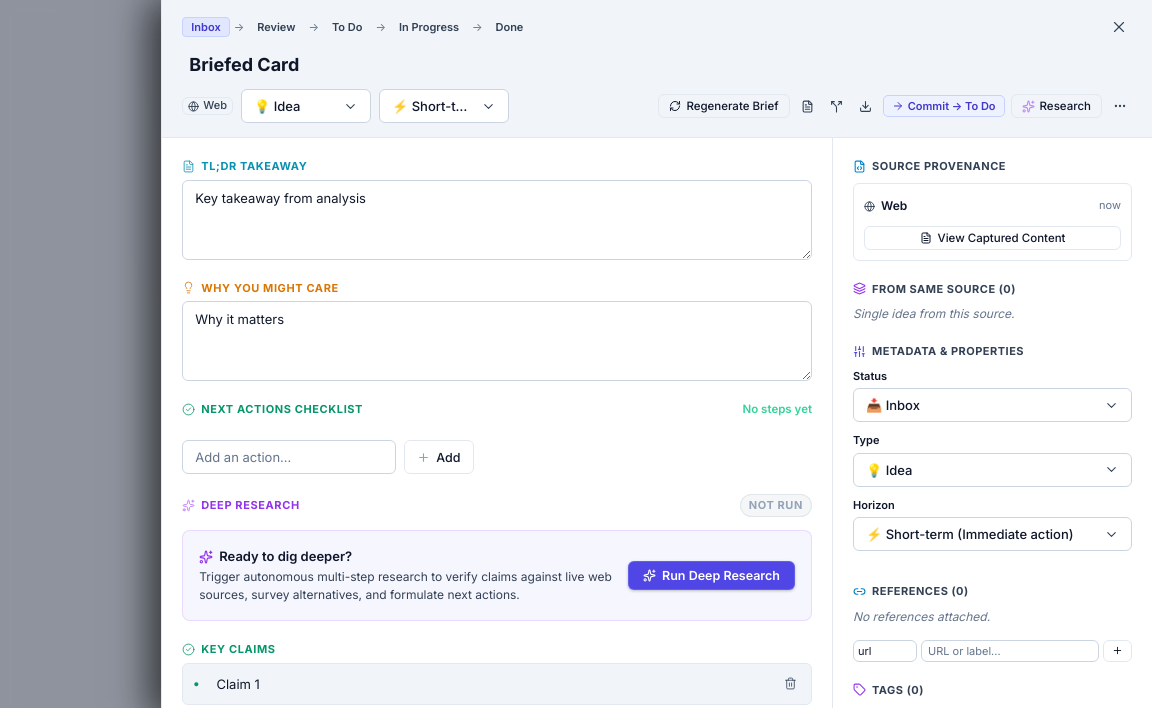
Test: CardModal Subject Card & Synthesize Brief › debounces title autosave by 650ms and shows saved indicator
The image size is (1152, 708).
Replace the text in the 1st field showing "Briefed Card" with "Updated Title After Edit" at (657, 64), box top-left (182, 50), bottom-right (1132, 79)
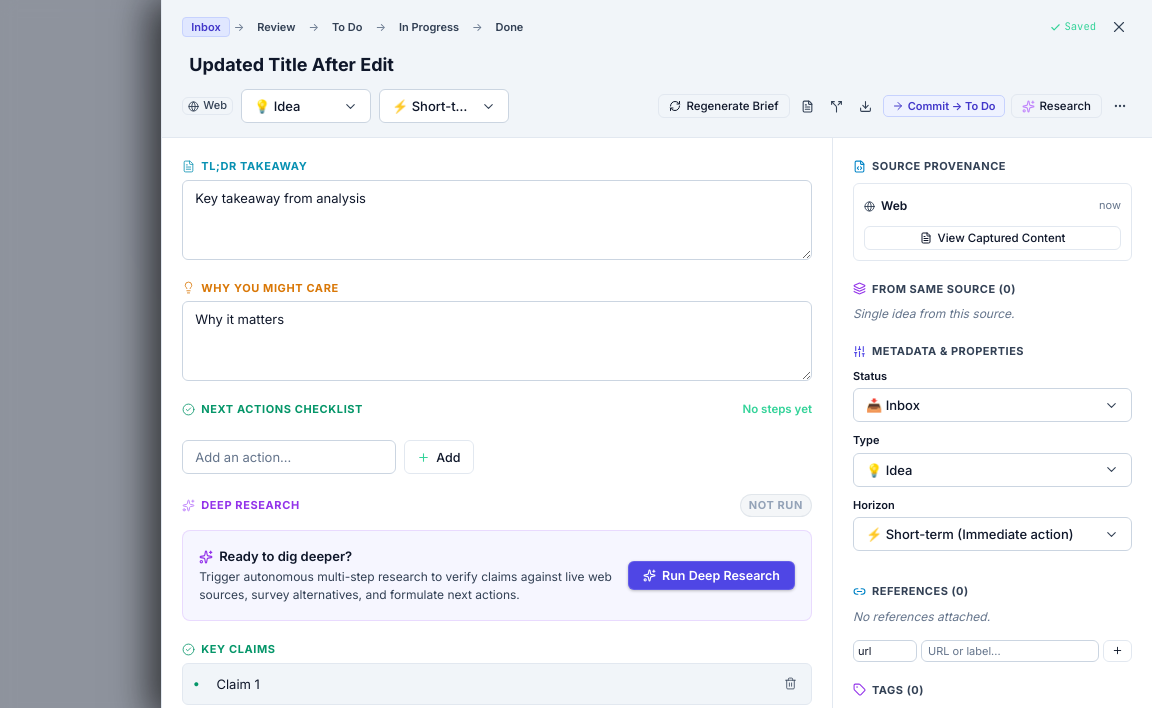
Now the text "Saved" is shown, box top-left (1064, 19), bottom-right (1096, 35)
